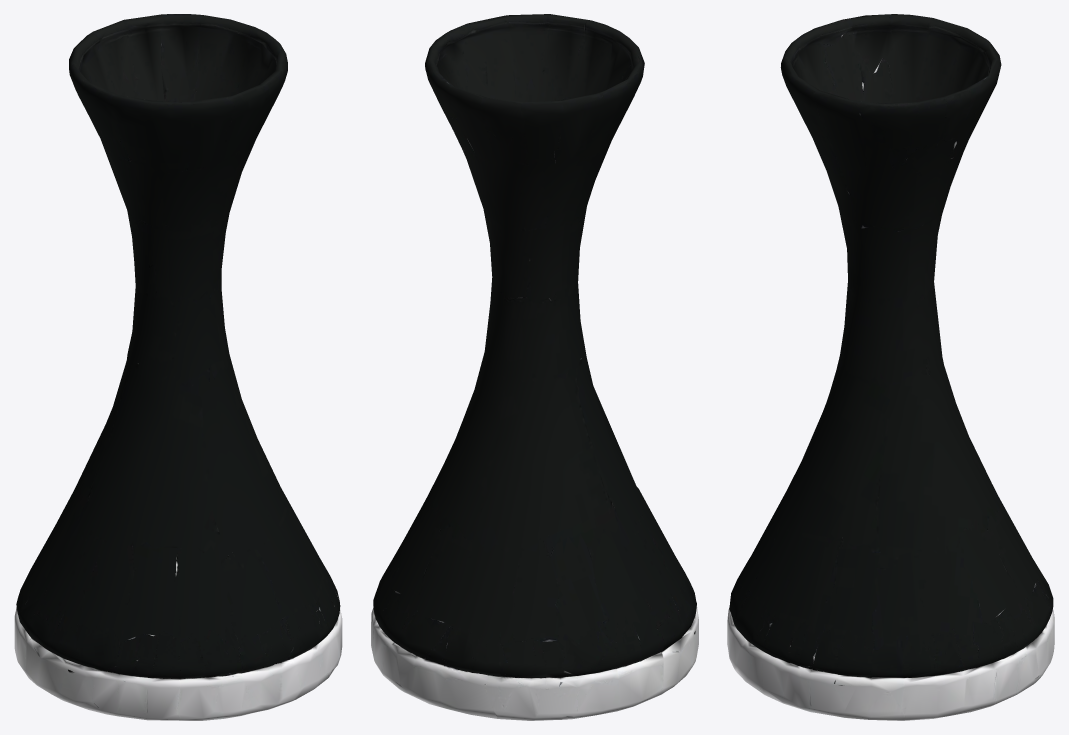
The model's file is pawn-black.glb.
3 views of the same model, side by side, from view 1: azimuth 30°, elevation 25°; view 2: azimuth 150°, elevation 25°; view 3: azimuth 270°, elevation 25° (orthographic).
Bounding box in the file's own units: 0.4721 × 0.95 × 0.4721.
Materials: 1 (1 with a texture image).
